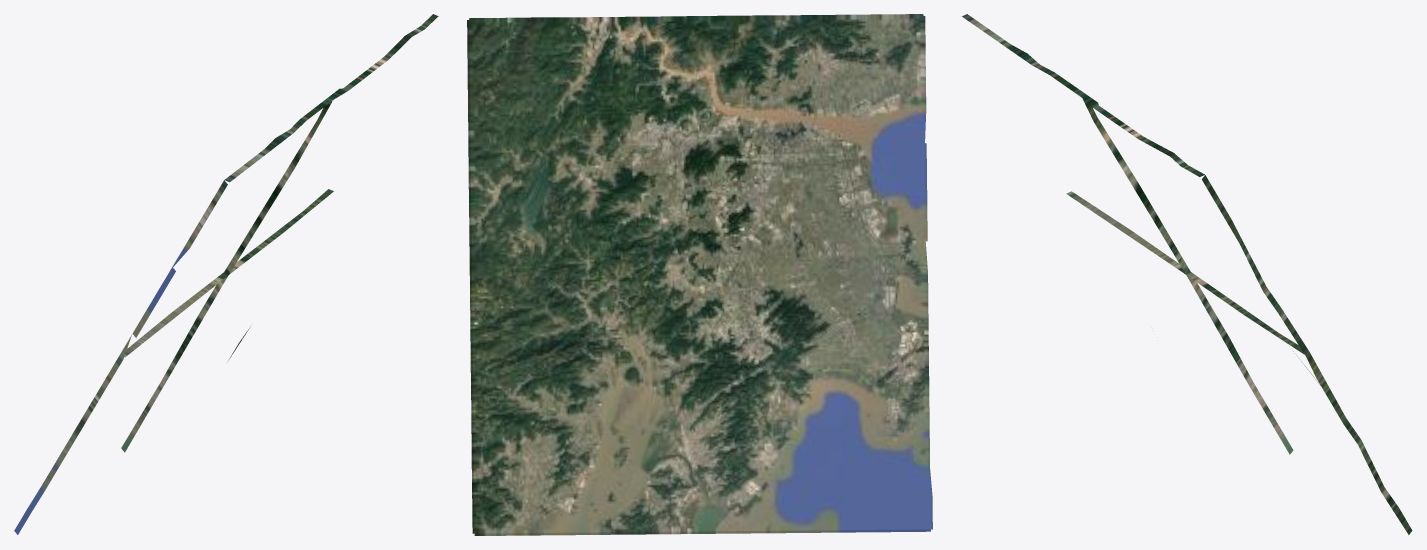
The picture shows the model from 3 angles, left to right: view 1: azimuth 30°, elevation 25°; view 2: azimuth 150°, elevation 25°; view 3: azimuth 270°, elevation 25°; orthographic projection. The views are drawn at different scales.
Bounding box in the file's own units: 79106 × 69836 × 68890.
1 material, 1 textured.
